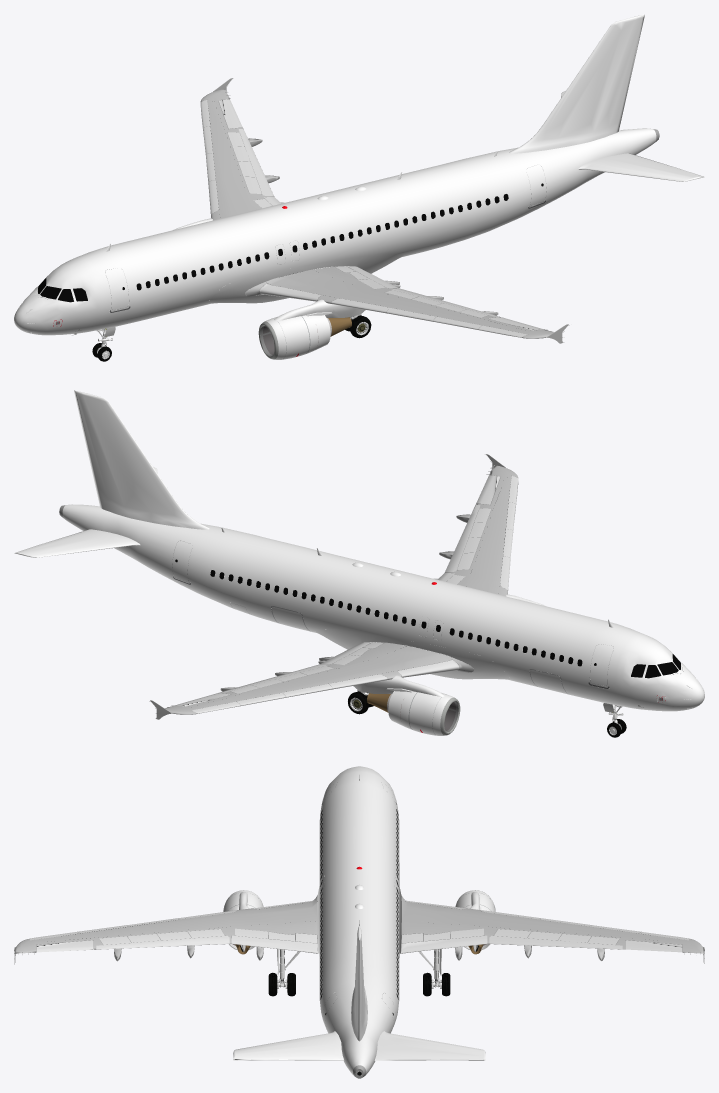
3 views of the same model, one above another, from view 1: azimuth 30°, elevation 25°; view 2: azimuth 150°, elevation 25°; view 3: azimuth 270°, elevation 25° (orthographic). The views are drawn at different scales.
Visible parts, largest first — view 1: Object_4; view 2: Object_4; view 3: Object_4, gear_mr, gear_ml.
Part boxes in pixels (x1=…): Object_4: x1=14, y1=14, x2=704, y2=359; Object_4: x1=14, y1=390, x2=704, y2=735; Object_4: x1=14, y1=766, x2=704, y2=1078; gear_mr: x1=268, y1=949, x2=322, y2=996; gear_ml: x1=420, y1=949, x2=450, y2=996.
Size of the model in its own units: 179 by 56.75 by 163.
Materials: 1 (1 with a texture image).
